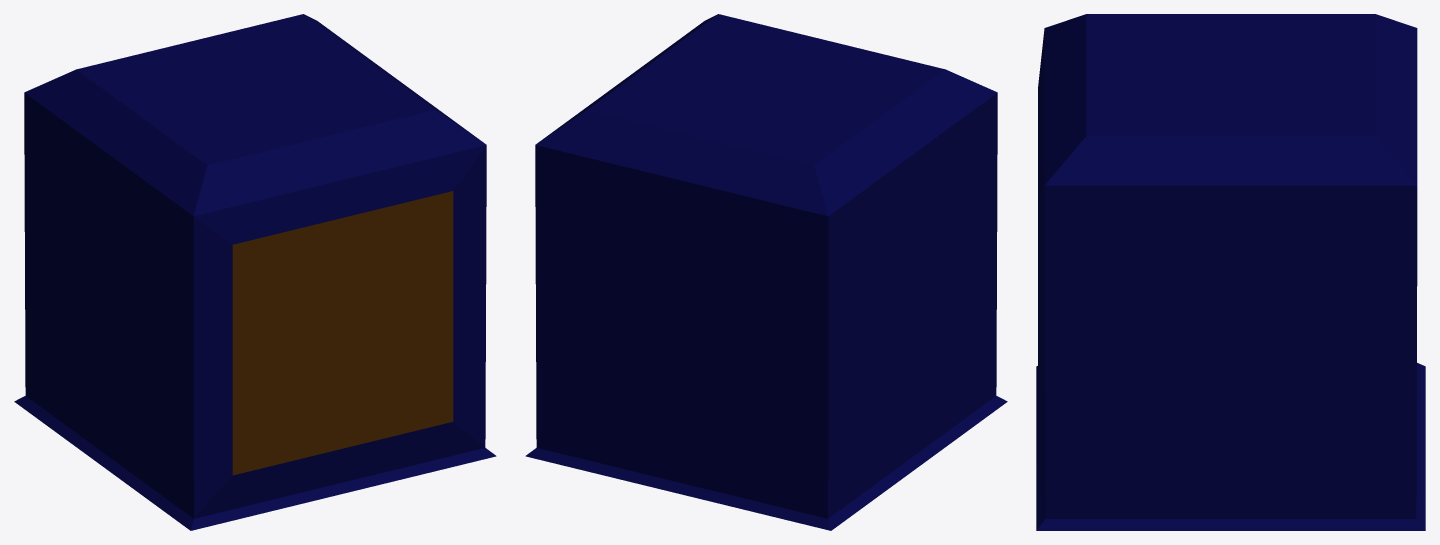
File: maze_door_box.fbx
3 views of the same model, side by side, from view 1: azimuth 30°, elevation 25°; view 2: azimuth 150°, elevation 25°; view 3: azimuth 270°, elevation 25° (orthographic). The views are drawn at different scales.
Parts seen in each view (by area): view 1: maze_door_box, maze_door_box_door; view 2: maze_door_box; view 3: maze_door_box.
Boxes of the visible parts, x1,y1,x2,y2 form: maze_door_box: (14,14,496,530); maze_door_box_door: (232,191,453,475); maze_door_box: (525,14,1007,530); maze_door_box: (1036,14,1425,530).
Bounding box in the file's own units: 222 × 235 × 222.
